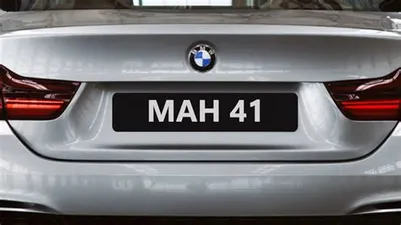number_plate: (107, 89, 302, 140)
